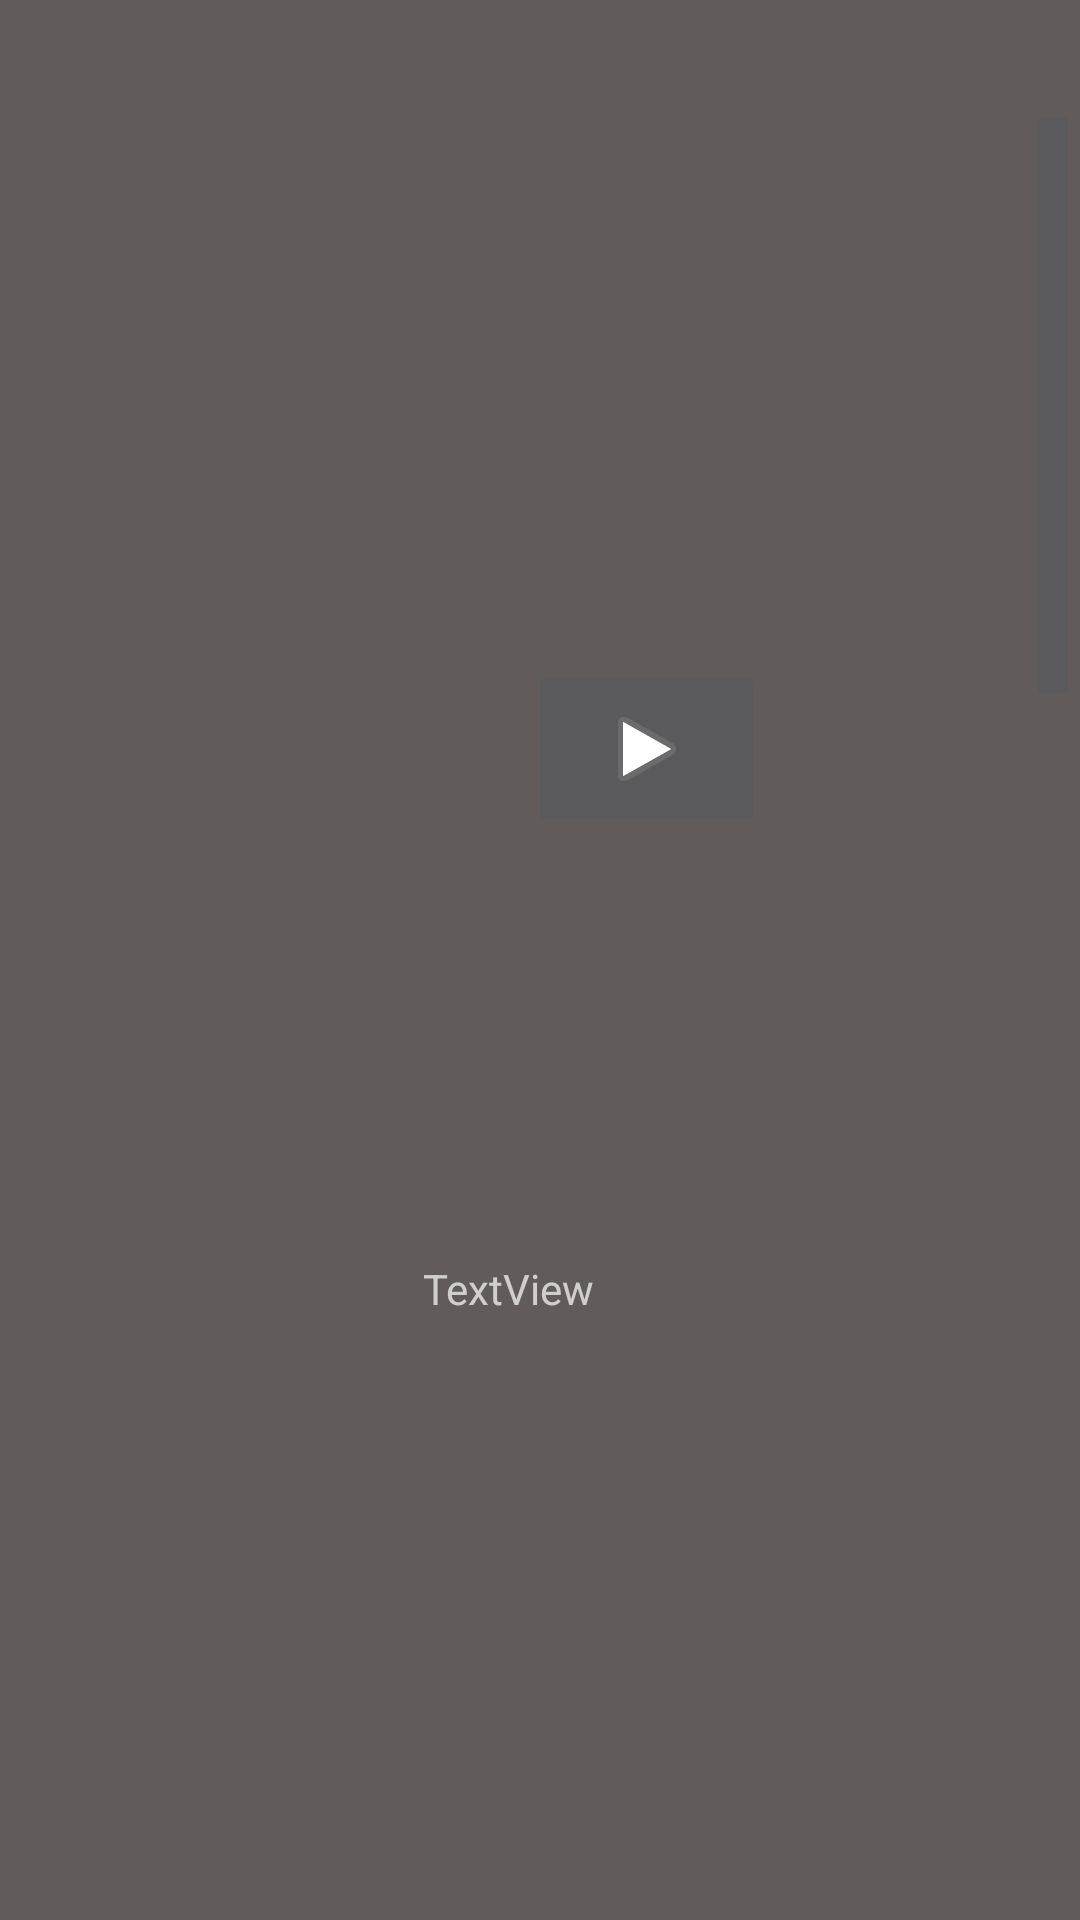

Named icons in this screenshot (1080w x 1920h) and their centers, [x,y]:
play: [647,749]
